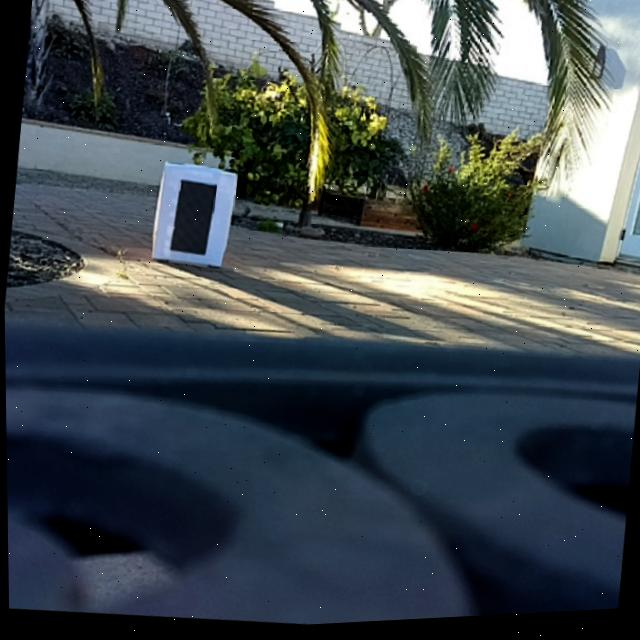led: (167, 179, 216, 259)
